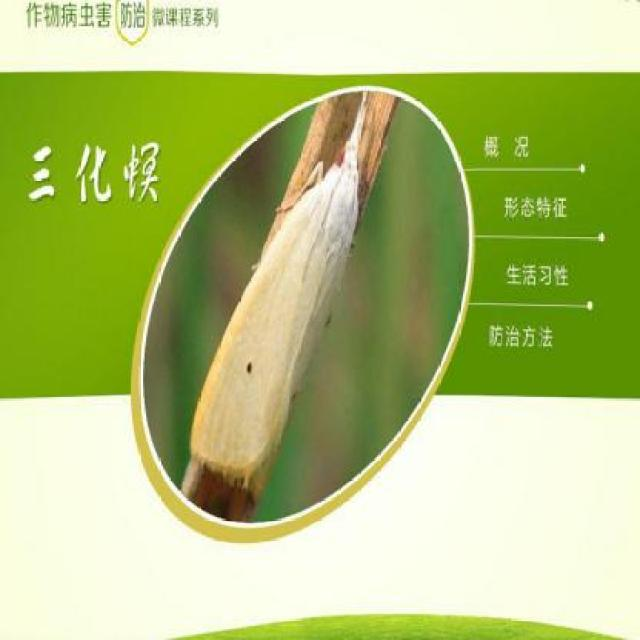stem-borer: (178, 98, 366, 513)
